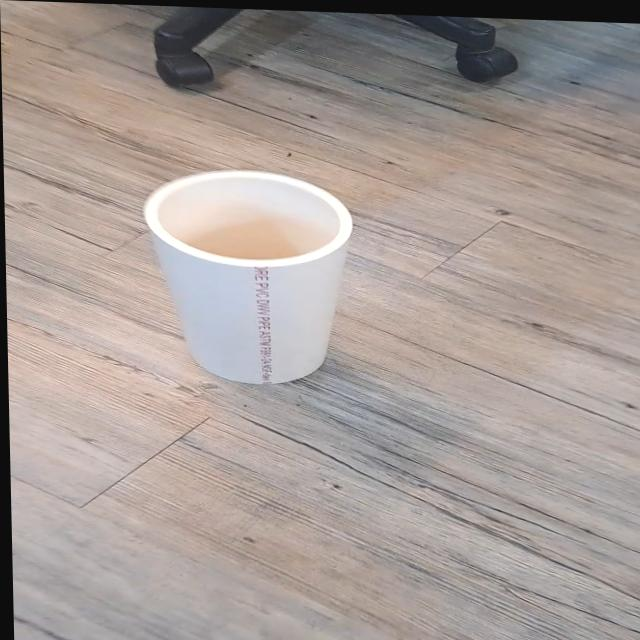CORAL: (146, 162, 363, 404)
